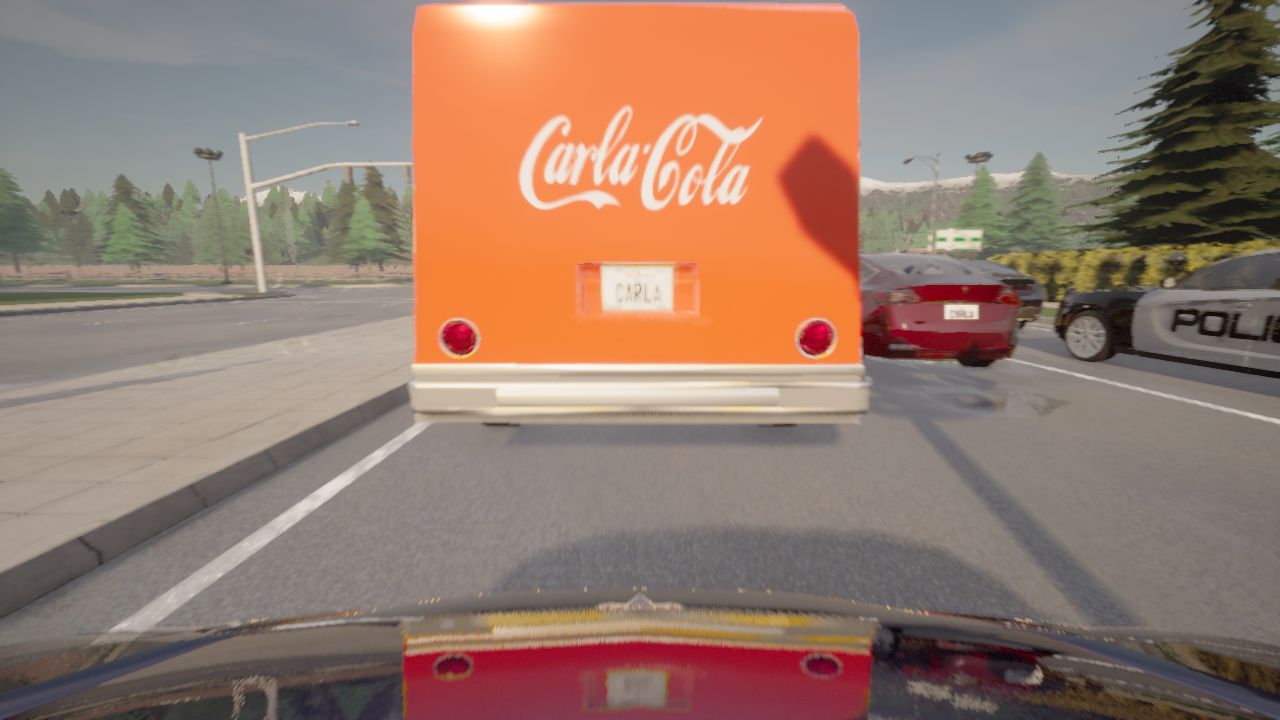cyclist: (408, 3, 871, 425), (0, 588, 1279, 719), (1054, 248, 1279, 378), (860, 253, 1022, 367), (960, 259, 1044, 329)
